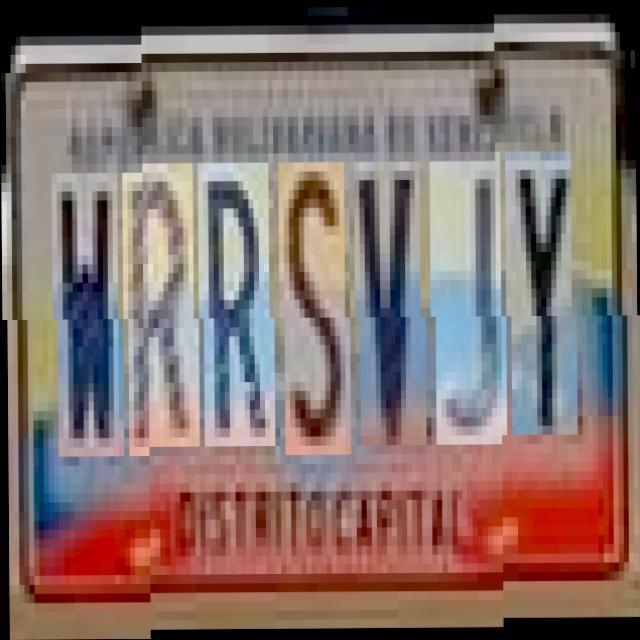J: (434, 162, 506, 446)
R: (128, 164, 200, 448), (203, 163, 275, 447)
S: (284, 162, 350, 456)
V: (359, 162, 426, 446)
W: (56, 164, 124, 448)
Y: (510, 162, 577, 446)
